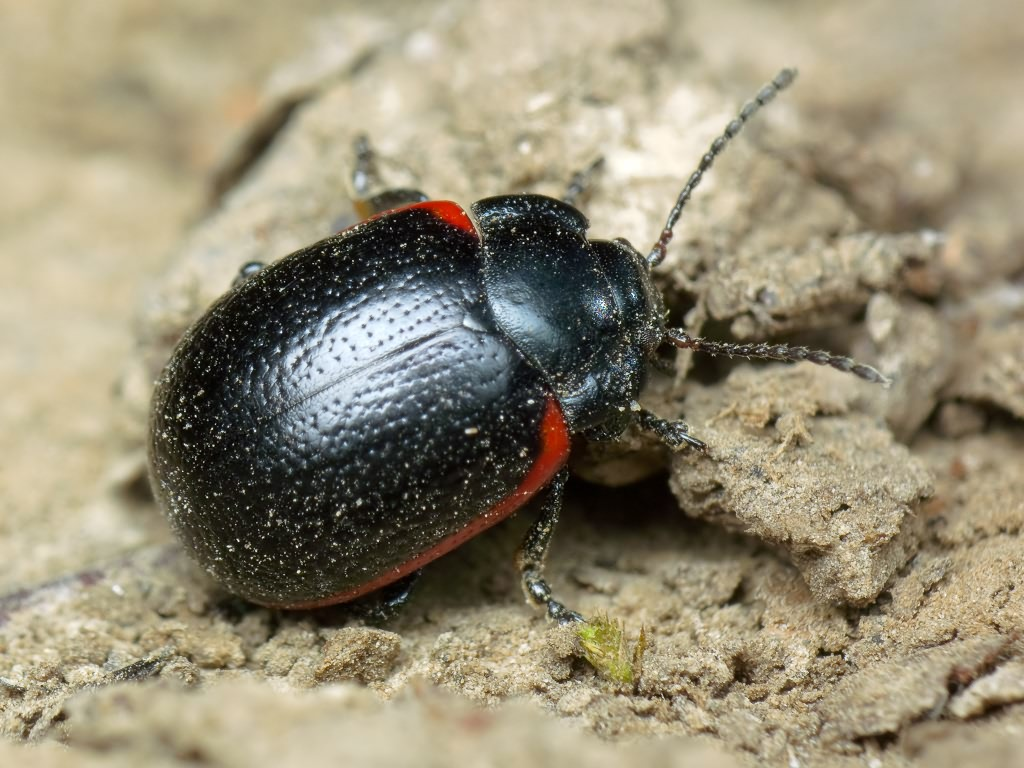Chrysolina_gypsophila: (139, 57, 898, 655)
